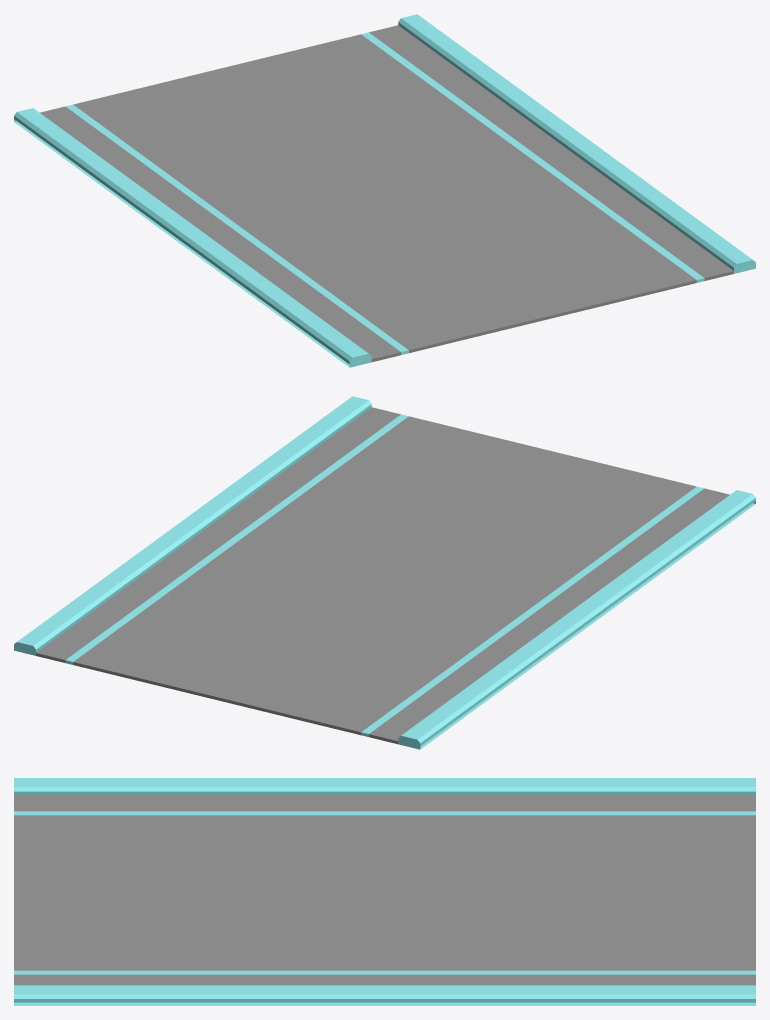
Rendered from NEW RAMP.FBX.
3 renders of one model, top to bottom at view 1: azimuth 30°, elevation 25°; view 2: azimuth 150°, elevation 25°; view 3: azimuth 270°, elevation 25°, orthographic. The views are drawn at different scales.
Visible parts, largest first — view 1: Plane002; view 2: Plane002; view 3: Plane002.
Boxes of the visible parts, x1,y1,x2,y2 form: Plane002: (14, 14, 755, 367); Plane002: (14, 396, 755, 749); Plane002: (14, 778, 755, 1005).
Size of the model in its own units: 0.0075 by 0.000165 by 0.0107.
